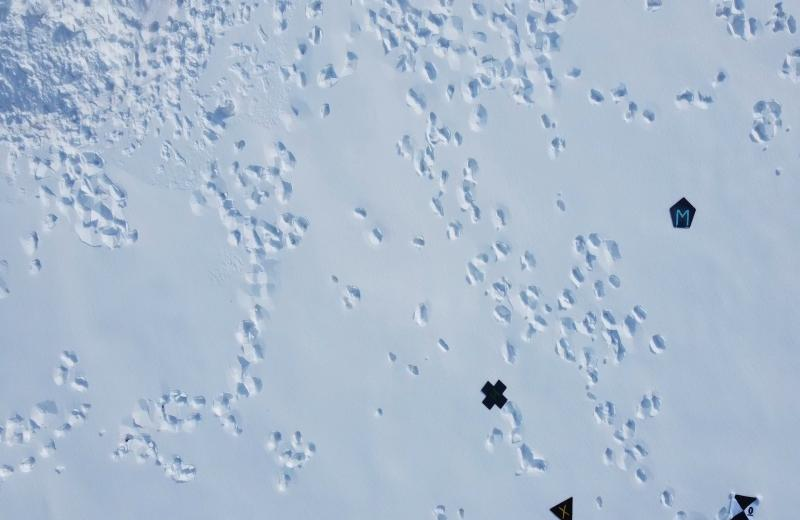Cross: (480, 377, 509, 411)
Pentagon: (669, 197, 697, 230)
Triangle: (549, 495, 576, 520)
